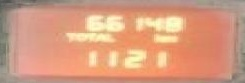1: (149, 49, 167, 68), (102, 48, 118, 67), (82, 48, 98, 67), (129, 15, 142, 31)
2: (120, 48, 145, 68)
4: (142, 15, 160, 31)
6: (103, 13, 123, 30), (83, 13, 103, 30)
8: (163, 14, 183, 31)
X: (162, 34, 178, 43), (63, 30, 74, 41), (94, 32, 105, 42), (74, 32, 85, 42), (151, 33, 162, 42), (105, 32, 114, 42), (85, 32, 94, 42)
